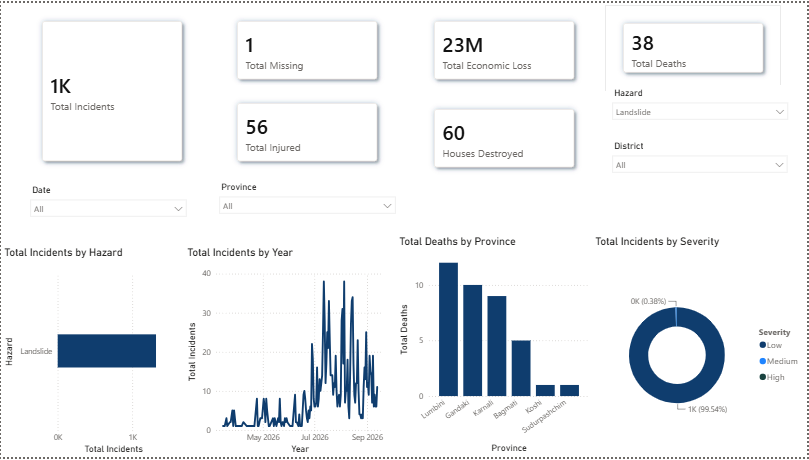

The page's visual inventory and layout, read from the dashboard file:
{"tool":"powerbi","page":{"name":"Nepal Disaster","canvas":[1280,720],"ordinal":0},"visuals":[{"type":"cardVisual","fields":{"Data":["Dim_Date.Total Incidents"]},"box":[36.7,0,280,280],"z":0},{"type":"cardVisual","fields":{"Data":["Dim_Date.Total Deaths"]},"box":[958.3,3.3,280,136.7],"z":1000},{"type":"cardVisual","fields":{"Data":["Dim_Date.Total Missing"]},"box":[346.7,0,280,150],"z":2000},{"type":"cardVisual","fields":{"Data":["Dim_Date.Total Injured"]},"box":[346.7,130,280,150],"z":3000},{"type":"cardVisual","fields":{"Data":["Dim_Date.Total Economic Loss"]},"box":[658.3,0,280,150],"z":4000},{"type":"cardVisual","fields":{"Data":["Dim_Date.Houses Destroyed"]},"box":[658.3,140,280,150],"z":5000},{"type":"clusteredBarChart","fields":{"Y":["Dim_Date.Total Incidents"],"Category":["incidents-wise.Hazard"]},"box":[0,385,280,335],"z":6000},{"type":"columnChart","fields":{"Category":["incidents-wise.Province"],"Y":["Dim_Date.Total Deaths"]},"box":[626.7,368.3,311.7,351.7],"z":7000},{"type":"lineChart","title":"Total Incidents by Year","fields":{"Y":["Dim_Date.Total Incidents"],"Category":["Dim_Date.Date.Variation.Date Hierarchy.Year","Dim_Date.Date.Variation.Date Hierarchy.Quarter","Dim_Date.Date.Variation.Date Hierarchy.Month","Dim_Date.Date.Variation.Date Hierarchy.Day"]},"box":[290,385,336.7,335],"z":8000},{"type":"donutChart","fields":{"Category":["incidents-wise.Severity"],"Y":["Dim_Date.Total Incidents"]},"box":[938.3,368.3,341.7,351.7],"z":9000},{"type":"slicer","fields":{"Values":["Dim_Date.Date"]},"box":[36.7,283.3,268.3,86.7],"z":10000},{"type":"slicer","fields":{"Values":["incidents-wise.Province"]},"box":[336.7,280,300,68.3],"z":11000},{"type":"slicer","fields":{"Values":["incidents-wise.District"]},"box":[960,215,298.3,58.3],"z":12000},{"type":"slicer","fields":{"Values":["incidents-wise.Hazard"]},"box":[960,130,299,72.2],"z":13000}]}

Visuals, with their boxes in screenshot pixels (x1, y1, x2, y2), scaled from the page's 1280x720 canvas onto the 809x460 screenshot:
cardVisual - Dim_Date.Total Incidents: (x1=23, y1=0, x2=200, y2=179)
cardVisual - Dim_Date.Total Deaths: (x1=606, y1=2, x2=783, y2=89)
cardVisual - Dim_Date.Total Missing: (x1=219, y1=0, x2=396, y2=96)
cardVisual - Dim_Date.Total Injured: (x1=219, y1=83, x2=396, y2=179)
cardVisual - Dim_Date.Total Economic Loss: (x1=416, y1=0, x2=593, y2=96)
cardVisual - Dim_Date.Houses Destroyed: (x1=416, y1=89, x2=593, y2=185)
clusteredBarChart - Dim_Date.Total Incidents x incidents-wise.Hazard: (x1=0, y1=246, x2=177, y2=459)
columnChart - incidents-wise.Province x Dim_Date.Total Deaths: (x1=396, y1=235, x2=593, y2=459)
"Total Incidents by Year" lineChart: (x1=183, y1=246, x2=396, y2=459)
donutChart - incidents-wise.Severity x Dim_Date.Total Incidents: (x1=593, y1=235, x2=808, y2=459)
slicer - Dim_Date.Date: (x1=23, y1=181, x2=193, y2=236)
slicer - incidents-wise.Province: (x1=213, y1=179, x2=402, y2=223)
slicer - incidents-wise.District: (x1=607, y1=137, x2=795, y2=175)
slicer - incidents-wise.Hazard: (x1=607, y1=83, x2=796, y2=129)
